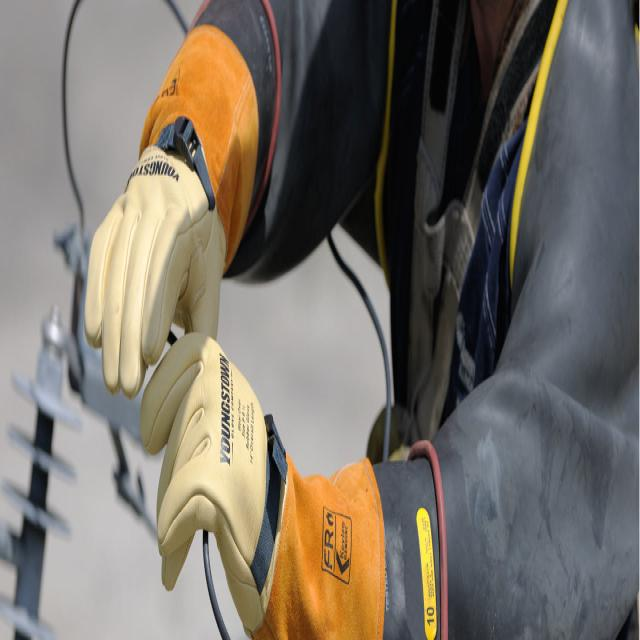gloves: (141, 328, 451, 640), (83, 0, 283, 408)
